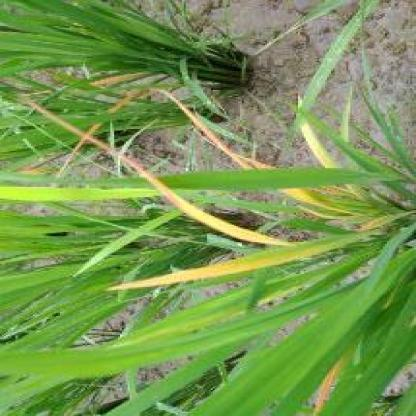Tungro: (1, 87, 279, 244), (90, 221, 391, 295)
